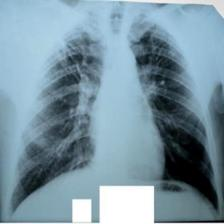tuberculosis: (11, 12, 224, 224)
